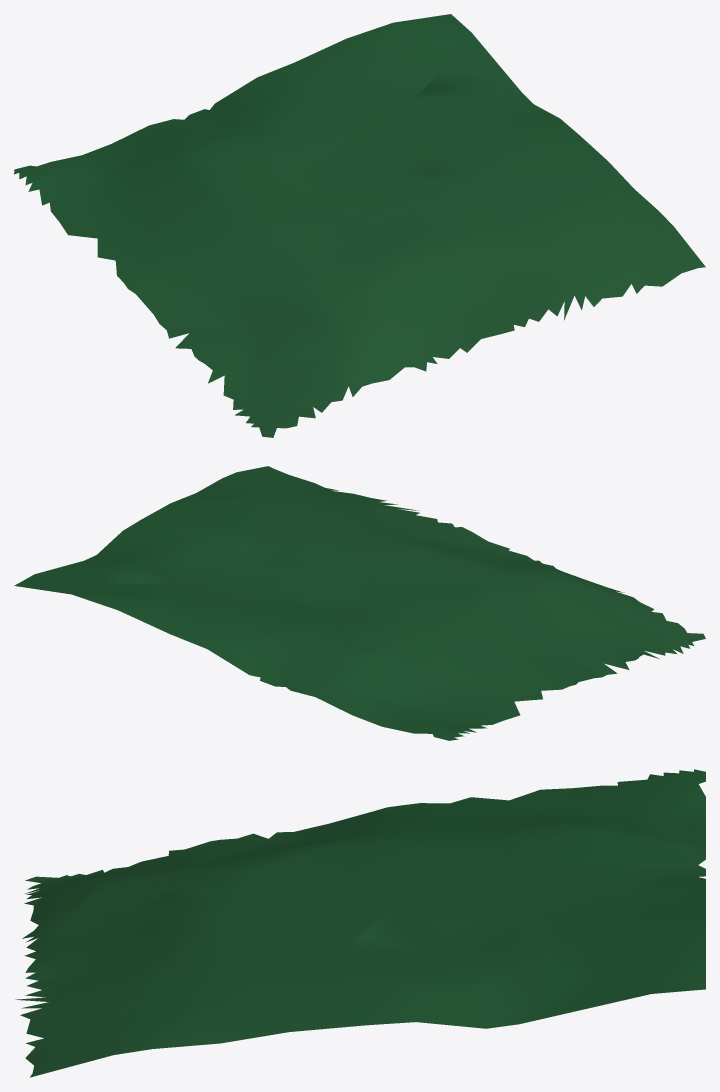
The model's file is payo_land_x3_y4_lod2.glb.
3 views of the same model, one above another, from view 1: azimuth 30°, elevation 25°; view 2: azimuth 150°, elevation 25°; view 3: azimuth 270°, elevation 25° (orthographic). The views are drawn at different scales.
Parts seen in each view (by area): view 1: payo_land_x3_y4; view 2: payo_land_x3_y4; view 3: payo_land_x3_y4.
Boxes of the visible parts, bbox=[...] form: payo_land_x3_y4: bbox=[14, 14, 705, 437]; payo_land_x3_y4: bbox=[14, 466, 705, 740]; payo_land_x3_y4: bbox=[15, 769, 705, 1077].
Size of the model in its own units: 261 by 75.78 by 264.
